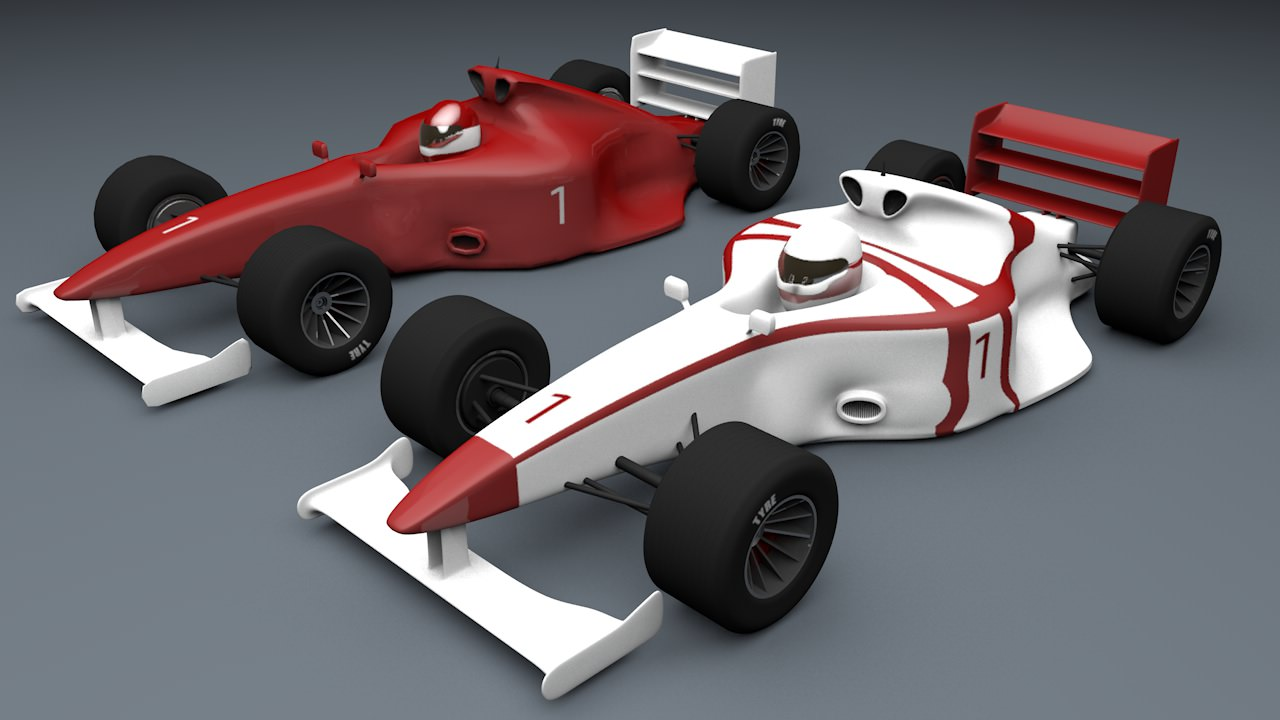f1_car: (284, 98, 1234, 708), (1, 9, 826, 421)
helmet: (774, 211, 869, 316), (412, 95, 491, 170)
